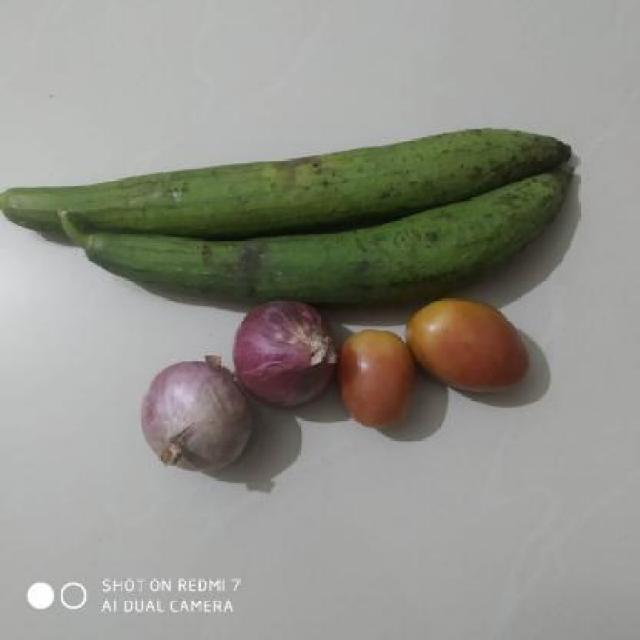Onion: (143, 361, 249, 474), (234, 301, 338, 414)
Sponge Gourd: (0, 125, 588, 308)
Tomato: (409, 295, 531, 397), (334, 330, 423, 432)
